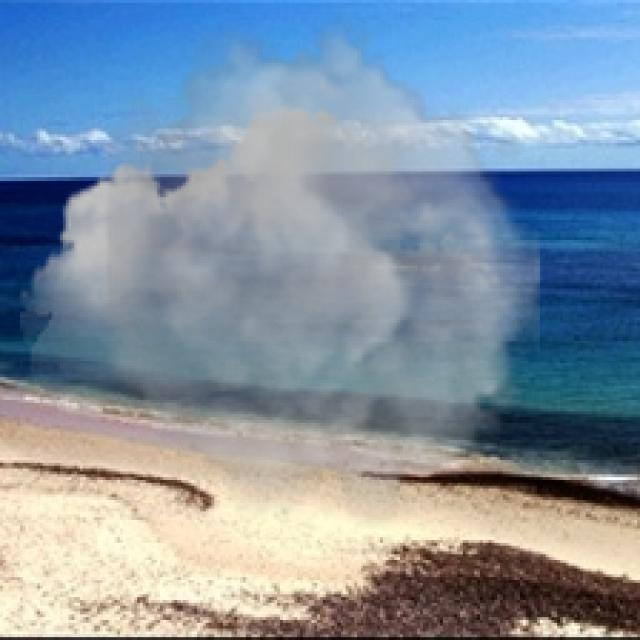Smoke: (20, 11, 540, 528)
